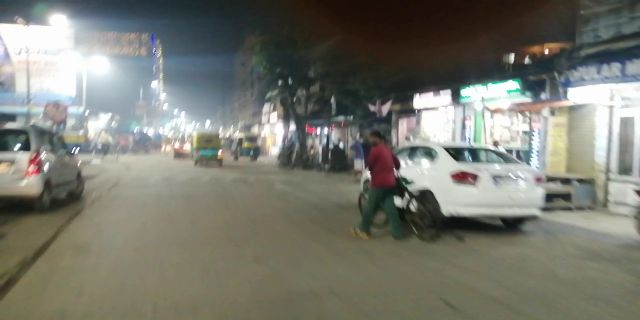Autorickshaw: (193, 134, 225, 166)
Car: (417, 135, 555, 228)
